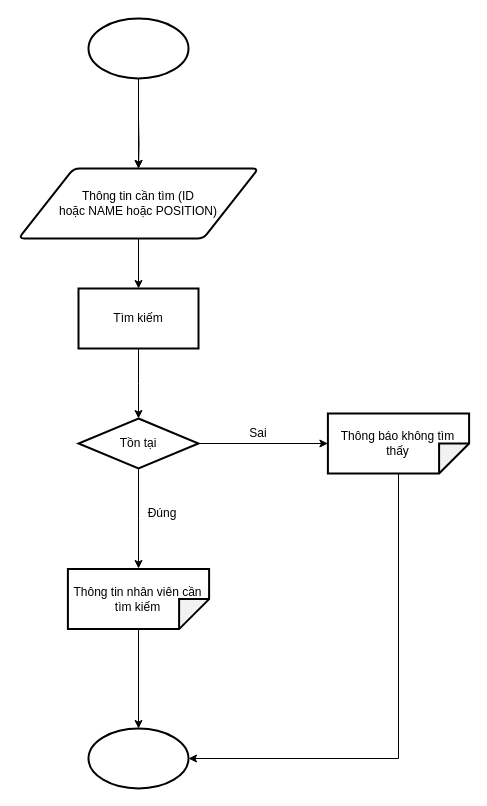
This 487x806 diagram has some shape labels left out. The shapes that lost their labels are listed below. From the top down, each one's centre as x and y in pixels, then its label:
At [138,48]: "Bắt đầu".
At [138,758]: "Kết thúc".
